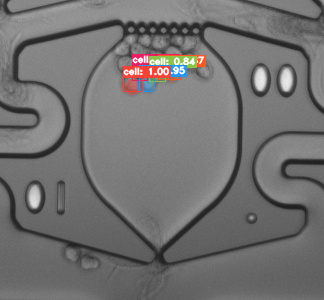AptNum: (243, 60, 302, 105)
Marker: (238, 206, 262, 230)
StNum: (21, 175, 72, 222)
